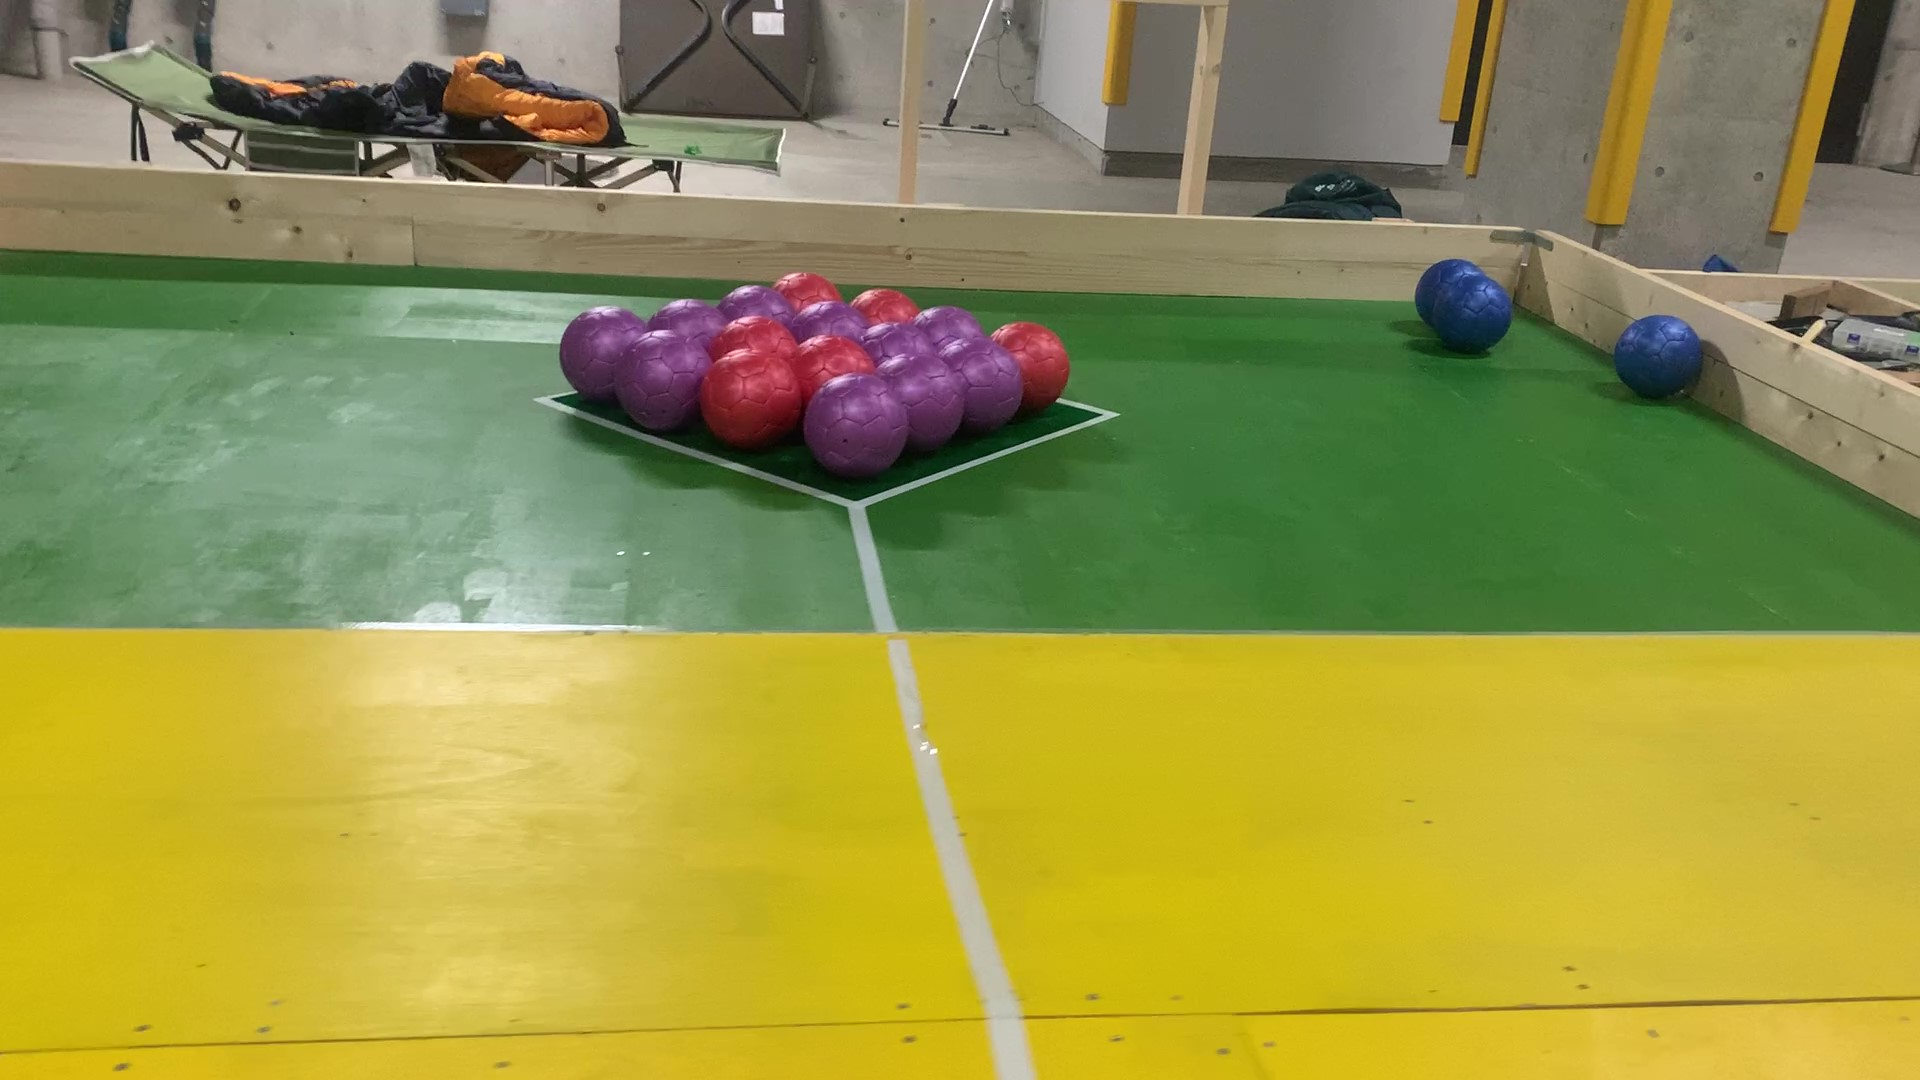blue: (1630, 322, 1691, 390), (1453, 284, 1506, 347), (1420, 266, 1436, 324)
purple: (820, 386, 890, 463), (632, 340, 696, 419), (963, 345, 1013, 426), (903, 356, 952, 436), (568, 318, 620, 393), (934, 306, 984, 340), (869, 328, 928, 356), (658, 309, 709, 332), (800, 313, 852, 336), (728, 289, 775, 313)
red: (712, 359, 786, 440), (1019, 326, 1065, 406), (796, 339, 858, 376), (724, 320, 782, 356), (786, 268, 839, 306), (862, 293, 910, 320)
